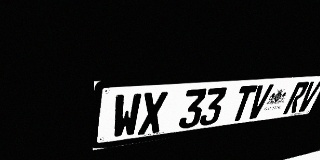3: (178, 88, 208, 129), (198, 87, 228, 126)
R: (283, 81, 310, 114)
T: (229, 85, 258, 122)
V: (245, 84, 274, 120), (295, 81, 320, 112)
W: (112, 93, 142, 139)
X: (138, 91, 168, 135)
